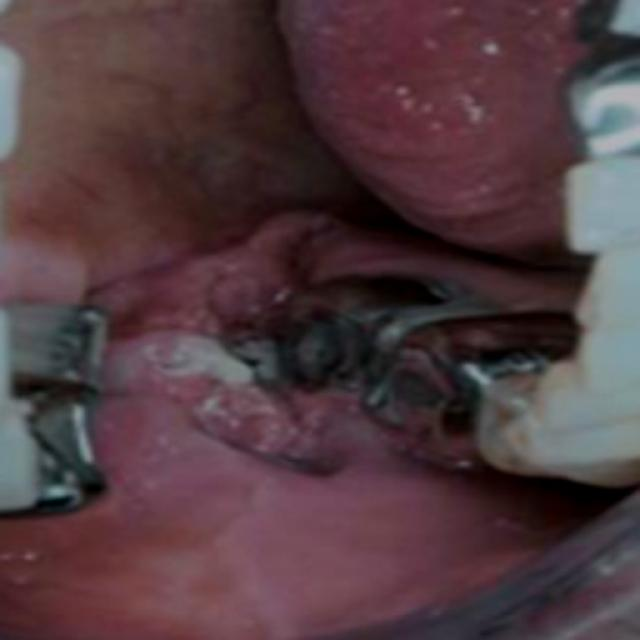cancer-detection: (92, 205, 365, 486)
processing_area: (0, 0, 594, 638)
